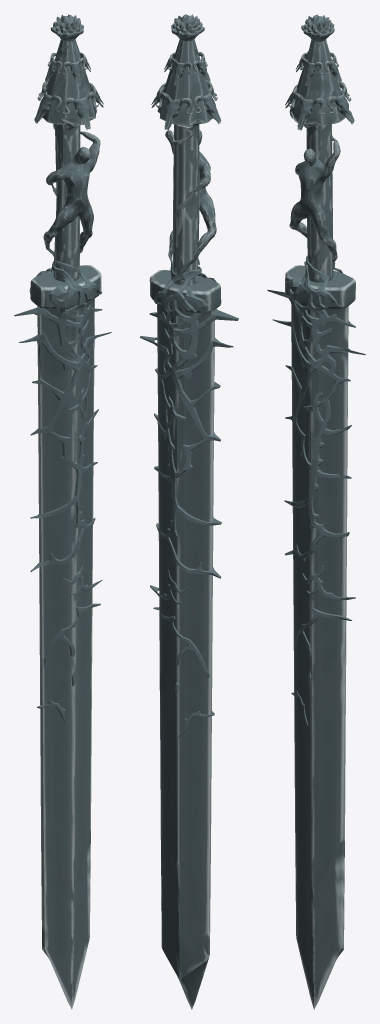
Rendered from mea-culpa.glb.
The picture shows the model from 3 angles, left to right: view 1: azimuth 30°, elevation 25°; view 2: azimuth 150°, elevation 25°; view 3: azimuth 330°, elevation 25°; orthographic projection.
Visible parts, largest first — view 1: espada_espada0_0, cuerpo_y_raiz_3_cuerpo_y_raiz_30_0, cuerpo_y_raiz_3_copy1_cuerpo_y_raiz_3_copy10_0, borde_mango_borde_mango0_0, calaveras_calaveras0_0, flor1_flor10_0; view 2: espada_espada0_0, cuerpo_y_raiz_3_cuerpo_y_raiz_30_0, borde_mango_borde_mango0_0, cuerpo_y_raiz_3_copy1_cuerpo_y_raiz_3_copy10_0, calaveras_calaveras0_0, flor1_flor10_0; view 3: espada_espada0_0, cuerpo_y_raiz_3_cuerpo_y_raiz_30_0, cuerpo_y_raiz_3_copy1_cuerpo_y_raiz_3_copy10_0, borde_mango_borde_mango0_0, calaveras_calaveras0_0, flor1_flor10_0.
Part boxes in pixels (x1,y1,x2,y2): espada_espada0_0: (30,124,101,1009); cuerpo_y_raiz_3_cuerpo_y_raiz_30_0: (14,249,111,727); cuerpo_y_raiz_3_copy1_cuerpo_y_raiz_3_copy10_0: (43,119,100,252); borde_mango_borde_mango0_0: (42,39,96,125); calaveras_calaveras0_0: (34,52,103,130); flor1_flor10_0: (50,14,83,41); espada_espada0_0: (149,124,221,1009); cuerpo_y_raiz_3_cuerpo_y_raiz_30_0: (140,257,238,737); borde_mango_borde_mango0_0: (157,39,213,125); cuerpo_y_raiz_3_copy1_cuerpo_y_raiz_3_copy10_0: (165,124,216,260); calaveras_calaveras0_0: (151,52,221,130); flor1_flor10_0: (171,14,204,41); espada_espada0_0: (285,124,355,1009); cuerpo_y_raiz_3_cuerpo_y_raiz_30_0: (267,255,365,725); cuerpo_y_raiz_3_copy1_cuerpo_y_raiz_3_copy10_0: (289,111,340,260); borde_mango_borde_mango0_0: (289,39,345,126); calaveras_calaveras0_0: (285,51,354,130); flor1_flor10_0: (301,14,334,41).
Bounding box in the file's own units: 1.52 × 14.74 × 1.1.
Materials: 6 (5 with a texture image).
